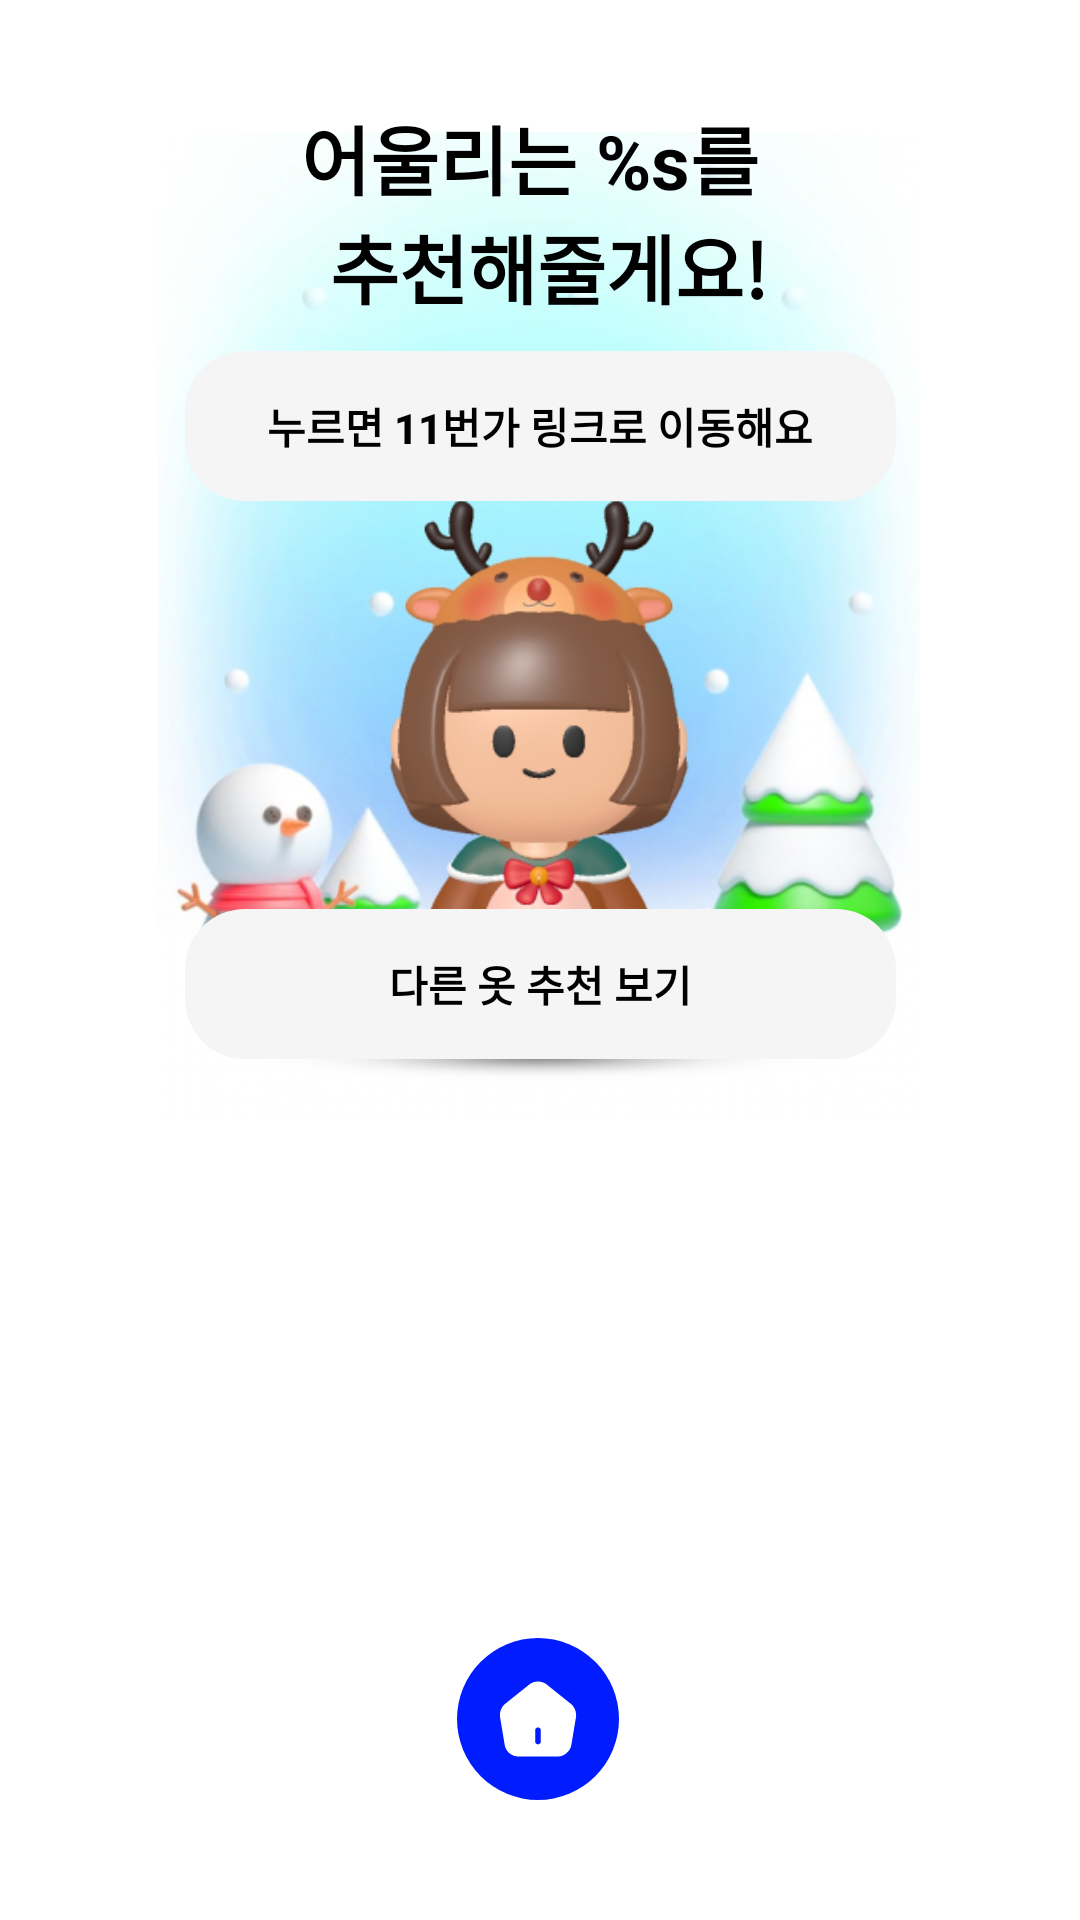

Point at icon controls on the screen. Image size 1080px x 1920px, points as (x=x, y=y).
home: (x=538, y=1719)
